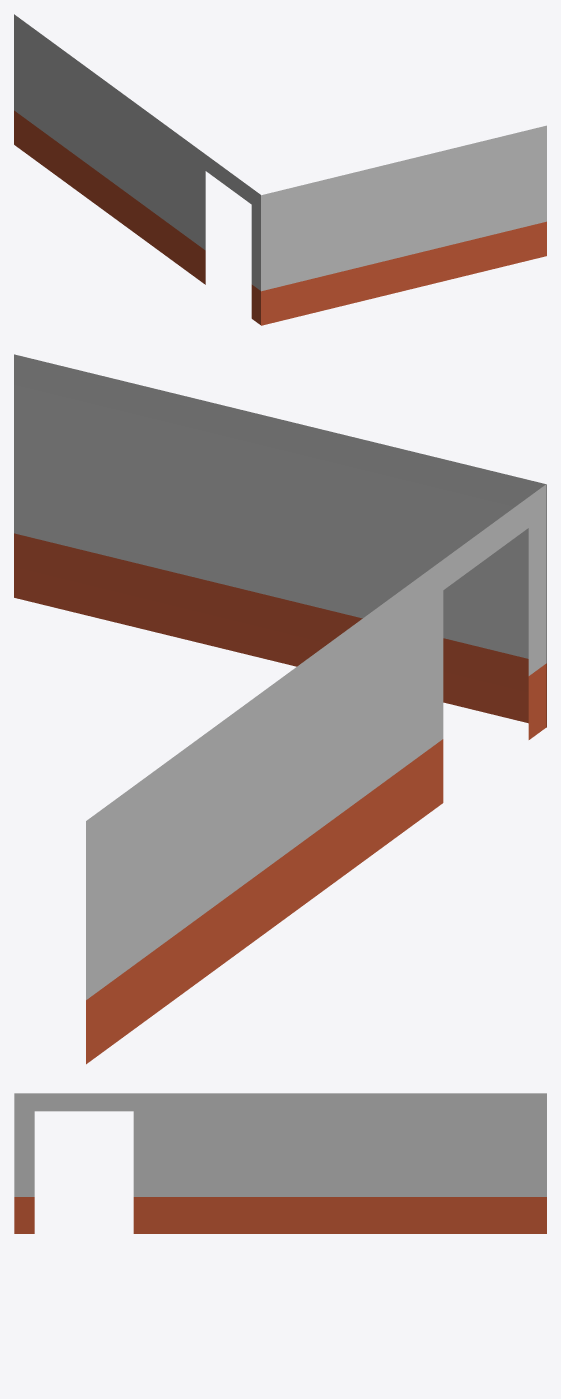
Rendered from Kitchen Walls 2.fbx.
3 renders of one model, top to bottom at view 1: azimuth 30°, elevation 25°; view 2: azimuth 150°, elevation 25°; view 3: azimuth 270°, elevation 25°, orthographic. The views are drawn at different scales.
Visible parts, largest first — view 1: Wall.Kitchen, BayWindowWall.001; view 2: Wall.Kitchen, BayWindowWall.001; view 3: BayWindowWall.001.
Boxes of the visible parts, x1,y1,x2,y2 form: Wall.Kitchen: (261,125,546,325); BayWindowWall.001: (14,14,260,324); Wall.Kitchen: (14,354,546,727); BayWindowWall.001: (86,484,546,1064); BayWindowWall.001: (14,1093,546,1233).
Size of the model in its own units: 802 by 350 by 1201.
